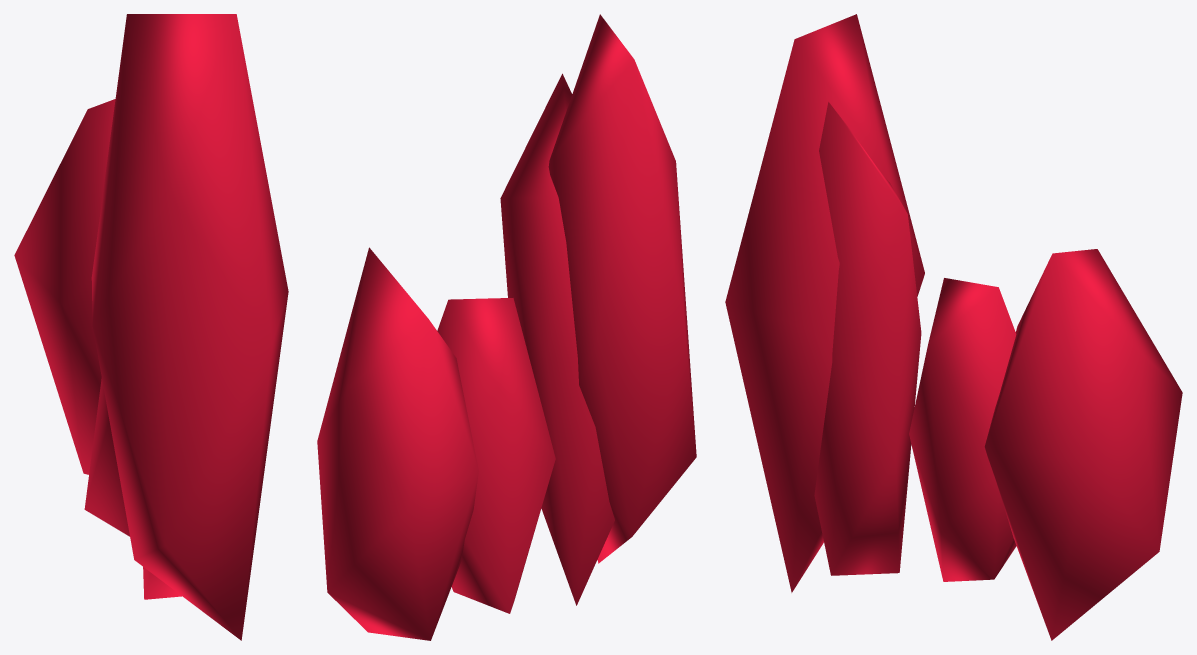
Rendered from thystame.obj.
3 renders of one model, left to right at view 1: azimuth 30°, elevation 25°; view 2: azimuth 150°, elevation 25°; view 3: azimuth 270°, elevation 25°, orthographic. The views are drawn at different scales.
Visible parts, largest first — view 1: thystame_deposit; view 2: thystame_deposit; view 3: thystame_deposit.
Boxes of the visible parts, x1=… form: thystame_deposit: x1=14, y1=14, x2=288, y2=640; thystame_deposit: x1=317, y1=14, x2=696, y2=640; thystame_deposit: x1=725, y1=14, x2=1182, y2=640.
Size of the model in its own units: 0.7202 by 1.57 by 1.18.
